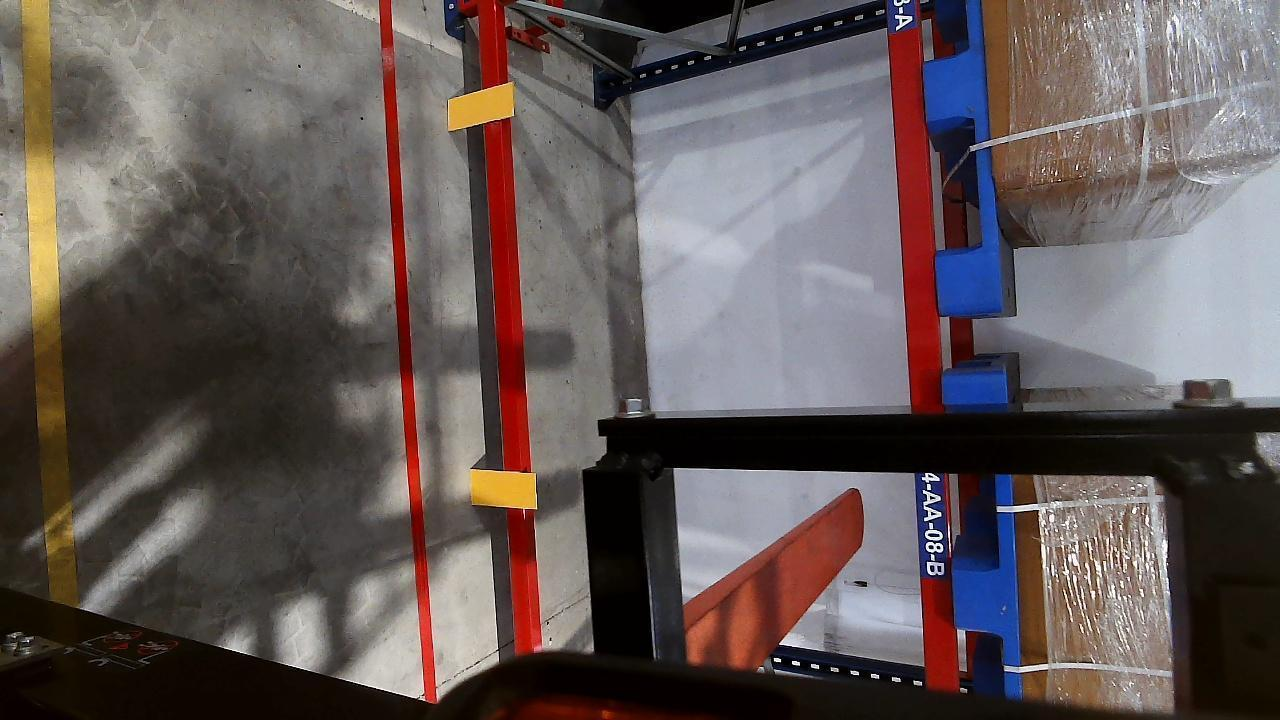red_line: (374, 0, 450, 694)
yellow_line: (16, 0, 75, 607)
